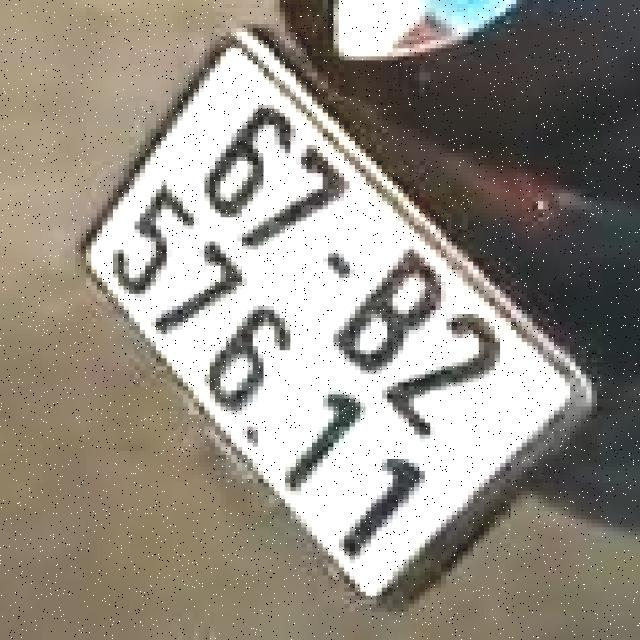1: (312, 441, 448, 577), (262, 382, 378, 510)
2: (364, 301, 525, 459)
5: (92, 169, 207, 310)
6: (188, 93, 313, 237), (184, 297, 309, 432)
7: (226, 141, 368, 273), (137, 231, 260, 360)
B: (316, 236, 467, 387)
